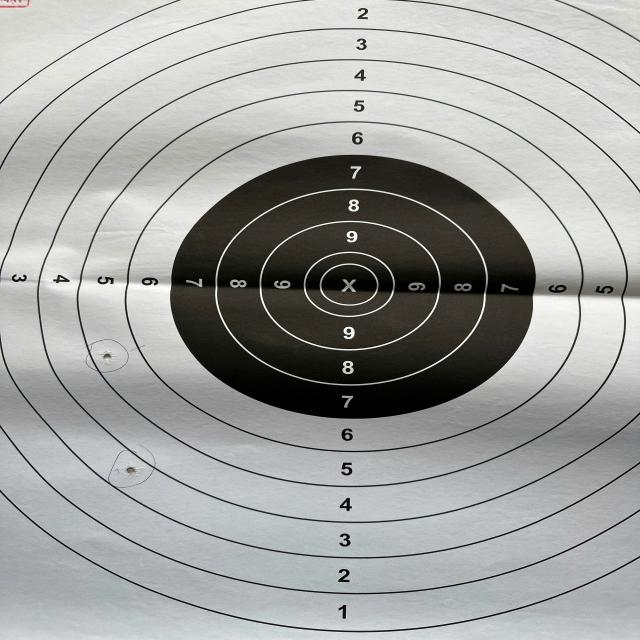bullet: (101, 352, 111, 362), (126, 466, 135, 475)
target: (1, 1, 638, 639)
